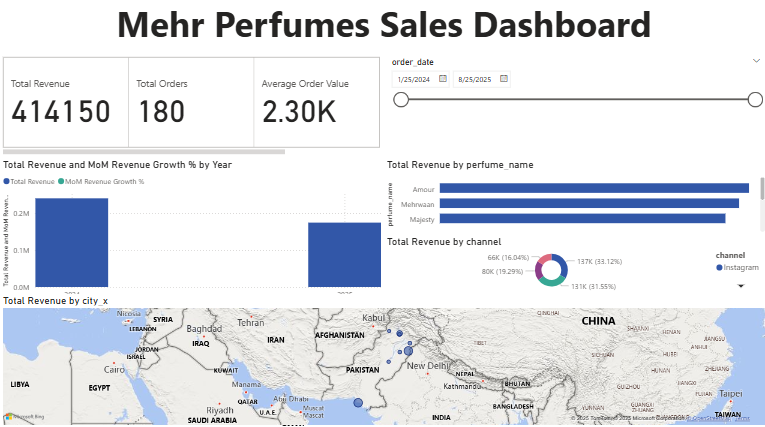

This screenshot's page, from the dashboard's own definition file:
{"tool":"powerbi","page":{"name":"Dashboard","canvas":[1280,720],"ordinal":0},"visuals":[{"type":"textbox","box":[0,0,1280.2,96.5],"z":0},{"type":"cardVisual","fields":{"Data":["clean_mehr_data.Total Revenue","clean_mehr_data.Total Orders","clean_mehr_data.Average Order Value","clean_mehr_data.Repeat Customers %"]},"box":[0,96,640,174],"z":1000},{"type":"lineStackedColumnComboChart","fields":{"Category":["clean_mehr_data.order_date.Variation.Date Hierarchy.Year","clean_mehr_data.order_date.Variation.Date Hierarchy.Quarter","clean_mehr_data.order_date.Variation.Date Hierarchy.Month","clean_mehr_data.order_date.Variation.Date Hierarchy.Day"],"Y":["clean_mehr_data.Total Revenue","clean_mehr_data.MoM Revenue Growth %"]},"box":[0,270,640,254],"z":2000},{"type":"barChart","fields":{"Category":["clean_mehr_data.perfume_name"],"Y":["clean_mehr_data.Total Revenue"]},"box":[640,270,640,128],"z":3000},{"type":"map","fields":{"Category":["clean_mehr_data.city_x"],"Size":["clean_mehr_data.Total Revenue"]},"box":[0,496,1280,224],"z":4000},{"type":"donutChart","fields":{"Category":["clean_mehr_data.channel"],"Y":["clean_mehr_data.Total Revenue"]},"box":[640,398,640,98],"z":5000},{"type":"slicer","fields":{"Values":["clean_mehr_data.order_date"]},"box":[640,96,640,174],"z":6000}]}

Visuals, with their boxes in screenshot pixels (x1, y1, x2, y2), scaled from the page's 1280x720 canvas onto the 765x427 screenshot:
textbox: <region>0, 0, 764, 57</region>
cardVisual - clean_mehr_data.Total Revenue x clean_mehr_data.Total Orders: <region>0, 57, 382, 160</region>
lineStackedColumnComboChart - clean_mehr_data.order_date.Variation.Date Hierarchy.Year x clean_mehr_data.order_date.Variation.Date Hierarchy.Quarter: <region>0, 160, 382, 311</region>
barChart - clean_mehr_data.perfume_name x clean_mehr_data.Total Revenue: <region>382, 160, 764, 236</region>
map - clean_mehr_data.city_x x clean_mehr_data.Total Revenue: <region>0, 294, 764, 426</region>
donutChart - clean_mehr_data.channel x clean_mehr_data.Total Revenue: <region>382, 236, 764, 294</region>
slicer - clean_mehr_data.order_date: <region>382, 57, 764, 160</region>
